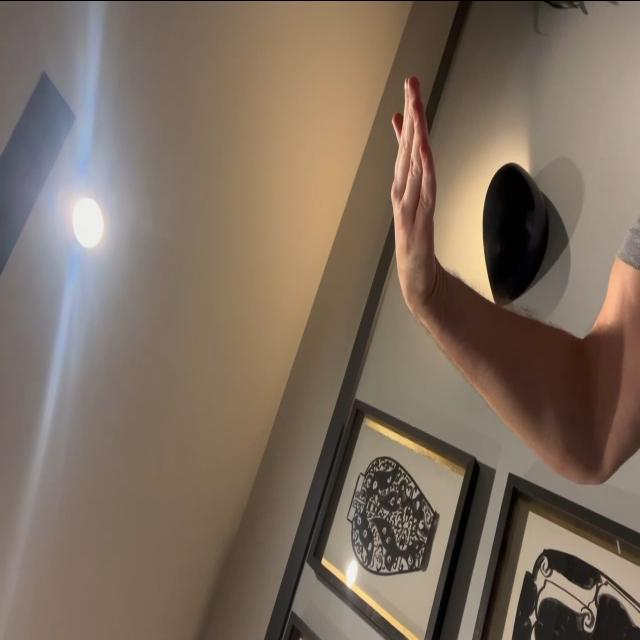Paper: (389, 71, 438, 311)
